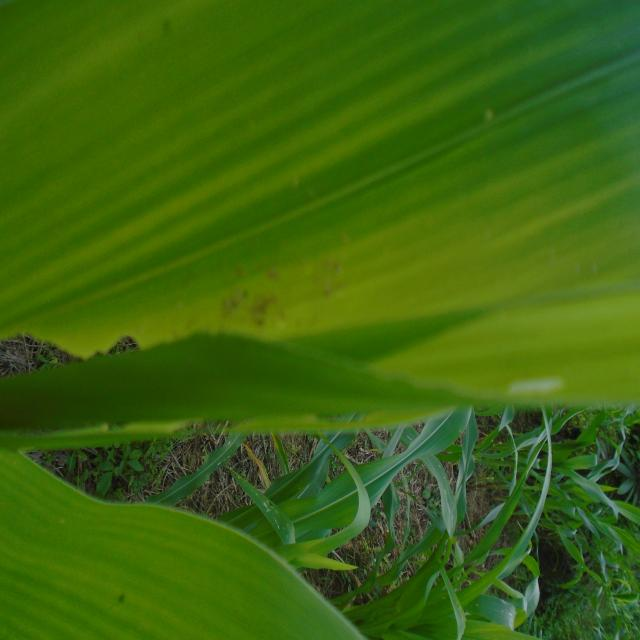healthy-maize: (8, 5, 618, 253), (29, 530, 209, 635)
